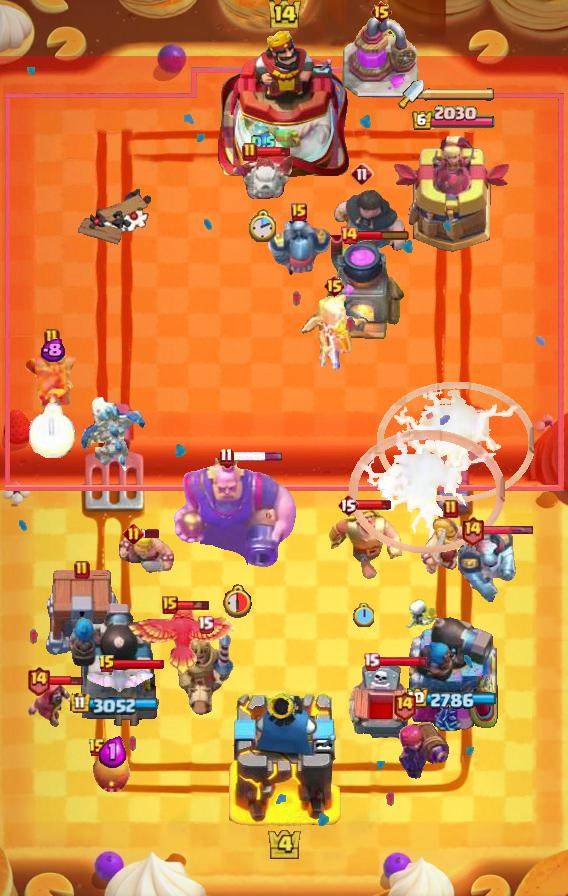archer: (118, 530, 174, 576)
bar: (391, 132, 515, 256)
barbarian: (85, 666, 155, 696)
barbarian-evolution: (349, 430, 505, 553), (378, 381, 534, 503)
bomb: (43, 570, 121, 656)
bowler: (28, 678, 76, 730)
electro-spirit: (99, 736, 125, 768), (39, 337, 64, 363), (252, 130, 277, 154)
elixir: (28, 403, 75, 458), (220, 583, 252, 617), (250, 209, 279, 243), (353, 603, 375, 627)
elixir-golem-mid: (346, 663, 416, 749)
elixir-golem-small: (455, 528, 517, 606), (266, 209, 332, 277)
emote: (377, 655, 428, 668), (357, 229, 410, 241), (113, 658, 165, 670), (231, 451, 284, 462), (482, 525, 534, 536), (48, 674, 84, 687), (255, 146, 291, 158), (356, 499, 392, 511), (176, 599, 211, 611), (141, 528, 161, 539)
goblin-barrel: (23, 351, 81, 413)
goblin-giant: (418, 516, 484, 578)
goblin-hut: (321, 502, 405, 580)
golden-knight: (127, 602, 237, 678)
heal-spirit: (405, 598, 439, 632)
hog: (92, 750, 132, 794)
hunter: (316, 235, 406, 343)
king-tower: (218, 27, 350, 181), (226, 688, 342, 826)
king-tower-bar: (424, 87, 496, 101)
lightning: (172, 458, 300, 572)
mega-minion: (395, 706, 451, 782)
mini-pekka: (79, 393, 149, 477), (230, 153, 296, 203)
pekka: (342, 17, 420, 99)
poison: (292, 289, 376, 373)
ram-rider: (175, 632, 235, 720)
royal-hog: (315, 188, 409, 258)
selected: (412, 104, 497, 131), (407, 688, 499, 712), (69, 692, 158, 715)
text: (460, 515, 485, 546), (25, 665, 50, 696), (392, 690, 417, 721), (350, 162, 374, 186), (370, 0, 393, 24), (322, 274, 345, 298), (337, 493, 359, 517), (123, 523, 144, 545), (339, 225, 359, 245), (98, 654, 116, 674), (88, 738, 106, 758), (197, 615, 215, 634), (364, 652, 381, 671), (242, 142, 258, 162), (44, 328, 60, 348), (443, 499, 459, 519), (74, 560, 90, 580), (291, 203, 307, 221), (162, 596, 178, 614), (218, 447, 233, 466)
tower-bar: (69, 599, 159, 731), (407, 611, 499, 731)
